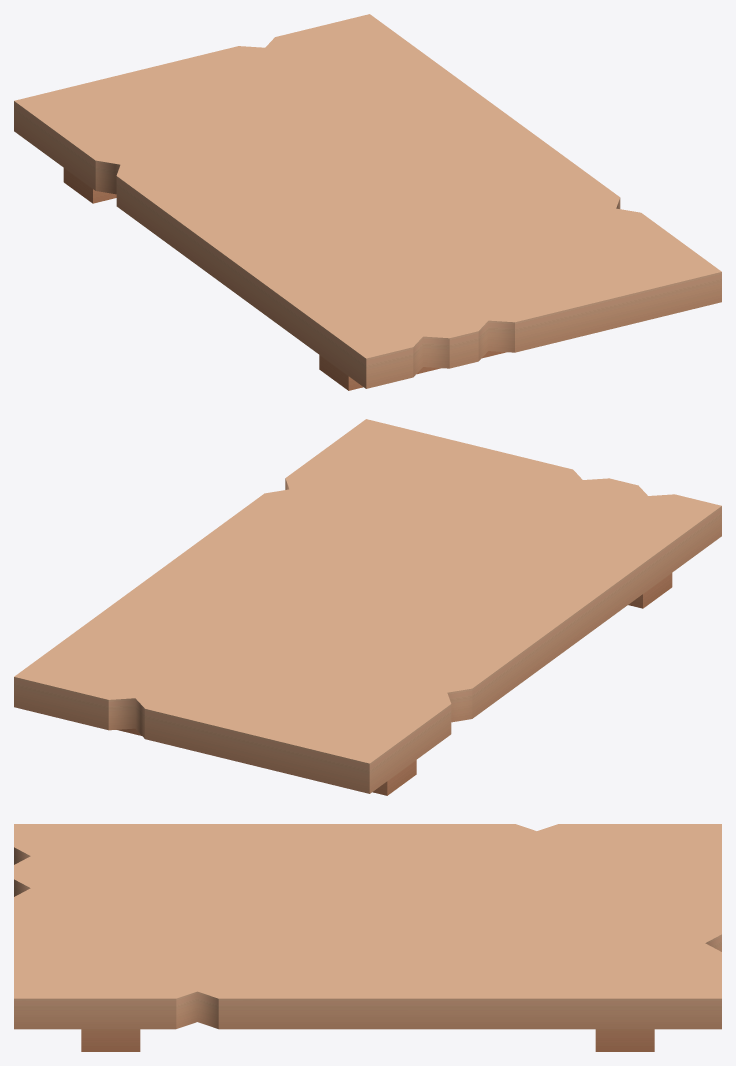
File: cutting-board-japanese.glb
3 renders of one model, top to bottom at view 1: azimuth 30°, elevation 25°; view 2: azimuth 150°, elevation 25°; view 3: azimuth 270°, elevation 25°, orthographic.
Visible parts, largest first — view 1: cutting-board-japanese; view 2: cutting-board-japanese; view 3: cutting-board-japanese.
Part boxes in pixels (<box>): cutting-board-japanese: <box>14,14,721,390</box>; cutting-board-japanese: <box>14,419,721,795</box>; cutting-board-japanese: <box>14,824,721,1051</box>.
Bounding box in the file's own units: 0.49 × 0.08 × 0.84.
Materials: 1 (1 with a texture image).
